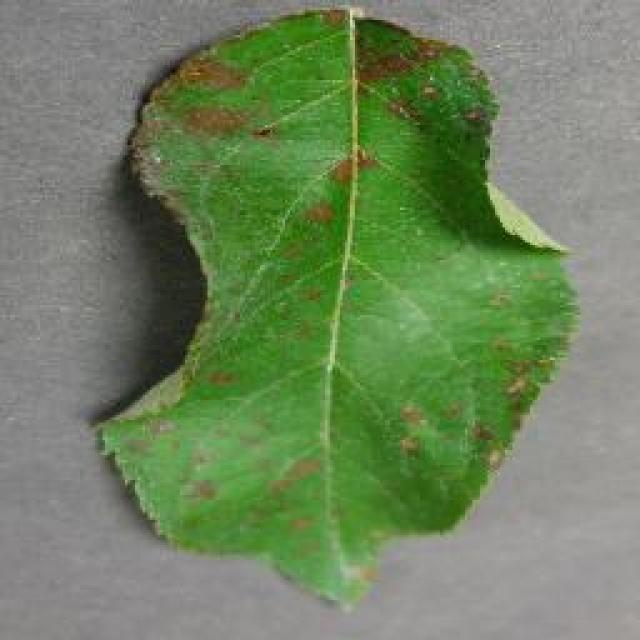apple healthy: (92, 5, 582, 610)
